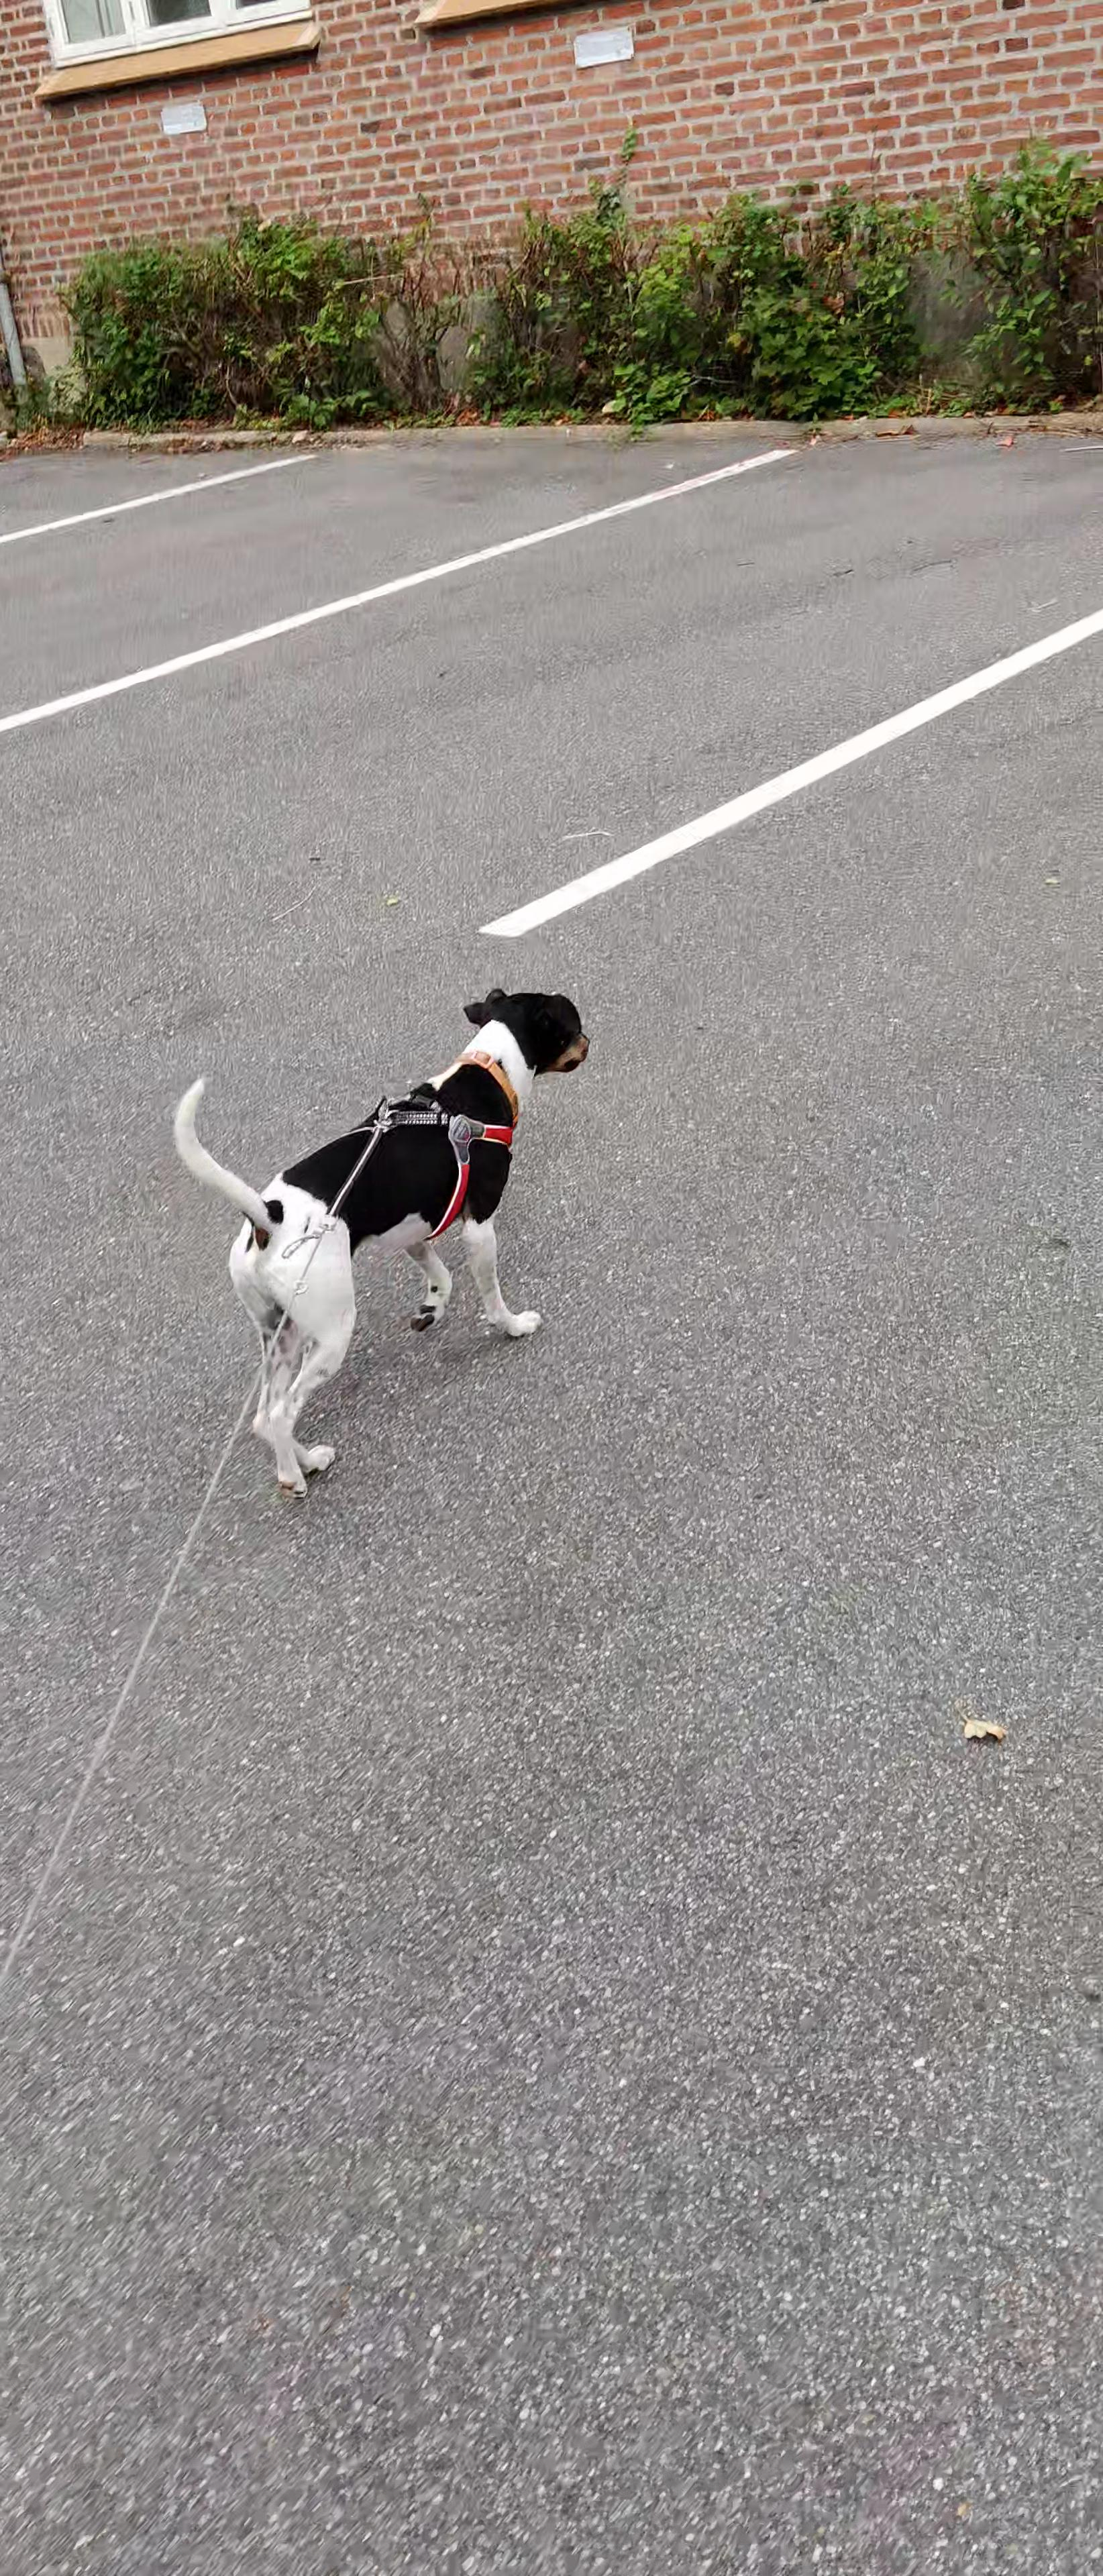Dog: (169, 981, 597, 1500)
